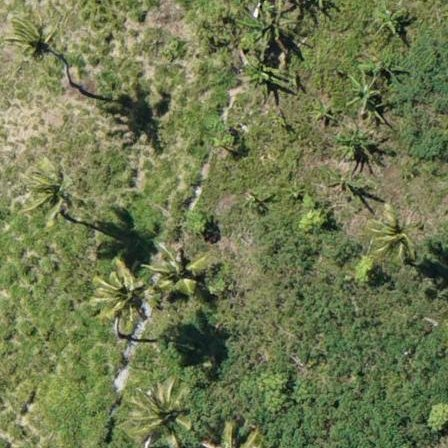palm_tree: (124, 375, 197, 448), (85, 256, 150, 325), (18, 157, 81, 223), (363, 202, 426, 266), (7, 11, 61, 60)
